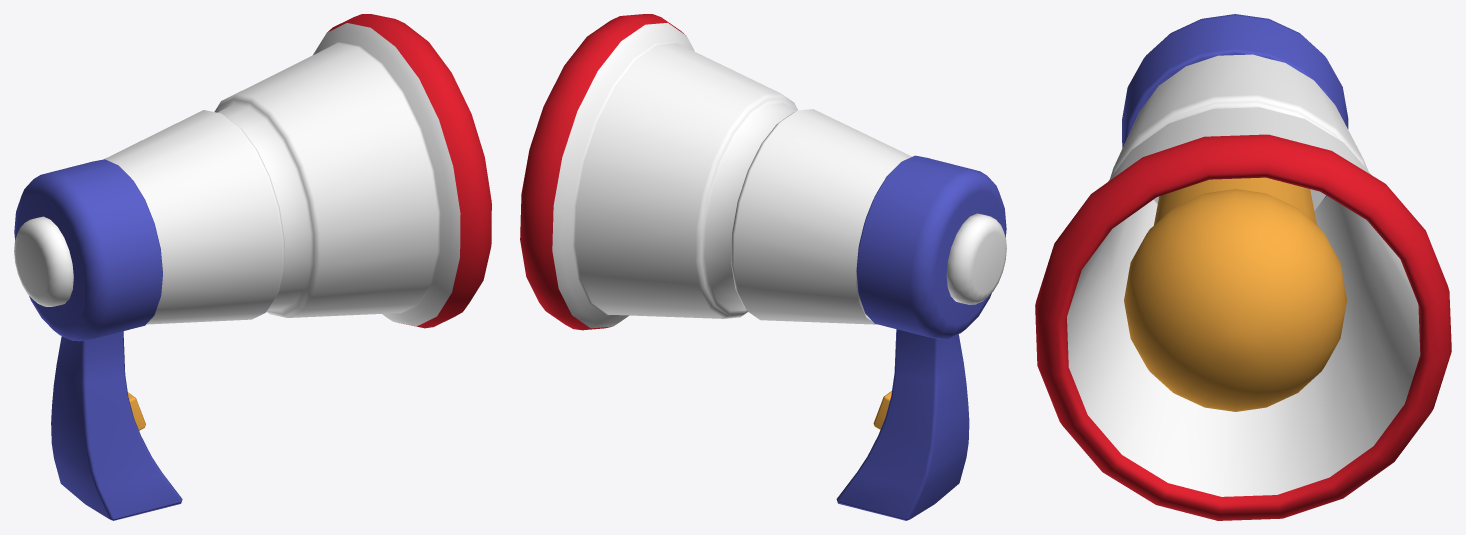
The model's file is mega_colored2.glb.
The picture shows the model from 3 angles, left to right: view 1: azimuth 30°, elevation 25°; view 2: azimuth 150°, elevation 25°; view 3: azimuth 270°, elevation 25°; orthographic projection. The views are drawn at different scales.
Visible parts, largest first — view 1: polySurface3, polySurface2, pCylinder2; view 2: polySurface3, polySurface2, pCylinder2; view 3: polySurface3, pSphere1, polySurface2.
Part boxes in pixels (<box>): polySurface3: <box>104,14,491,328</box>; polySurface2: <box>14,159,182,520</box>; pCylinder2: <box>14,216,73,306</box>; polySurface3: <box>520,14,911,330</box>; polySurface2: <box>836,155,1006,520</box>; pCylinder2: <box>946,213,1006,304</box>; polySurface3: <box>1035,54,1451,520</box>; pSphere1: <box>1124,177,1346,411</box>; polySurface2: <box>1122,14,1348,198</box>.
Size of the model in its own units: 0.6223 by 0.5962 by 0.4297.
